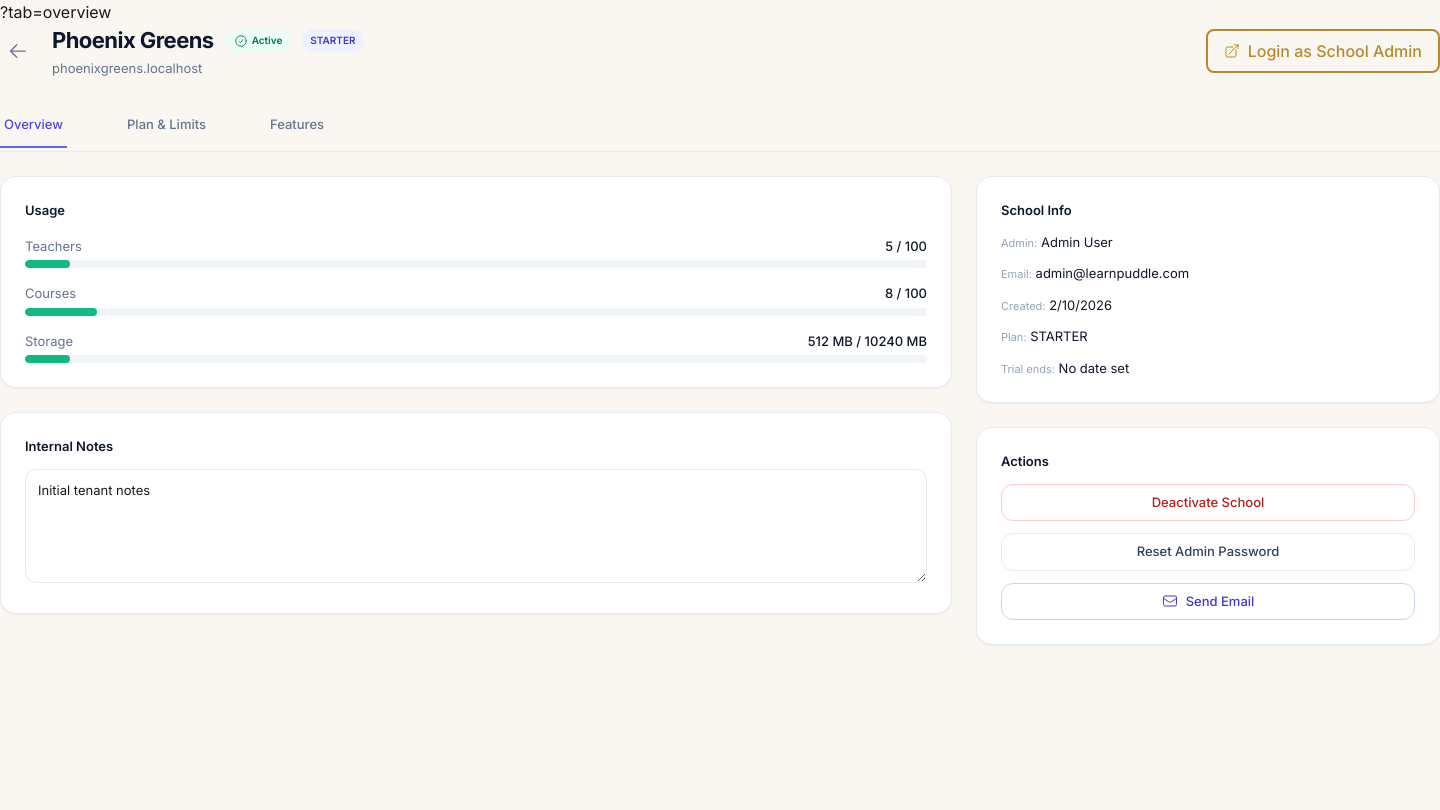
SchoolDetailPage tab URL stability › updates URL via tab clicks without bouncing back
Expected: the heading "Phoenix Greens" is shown, top-left (52, 24), bottom-right (214, 57)
Click the button "Plan & Limits": [166, 125] box top-left (123, 102), bottom-right (210, 148)
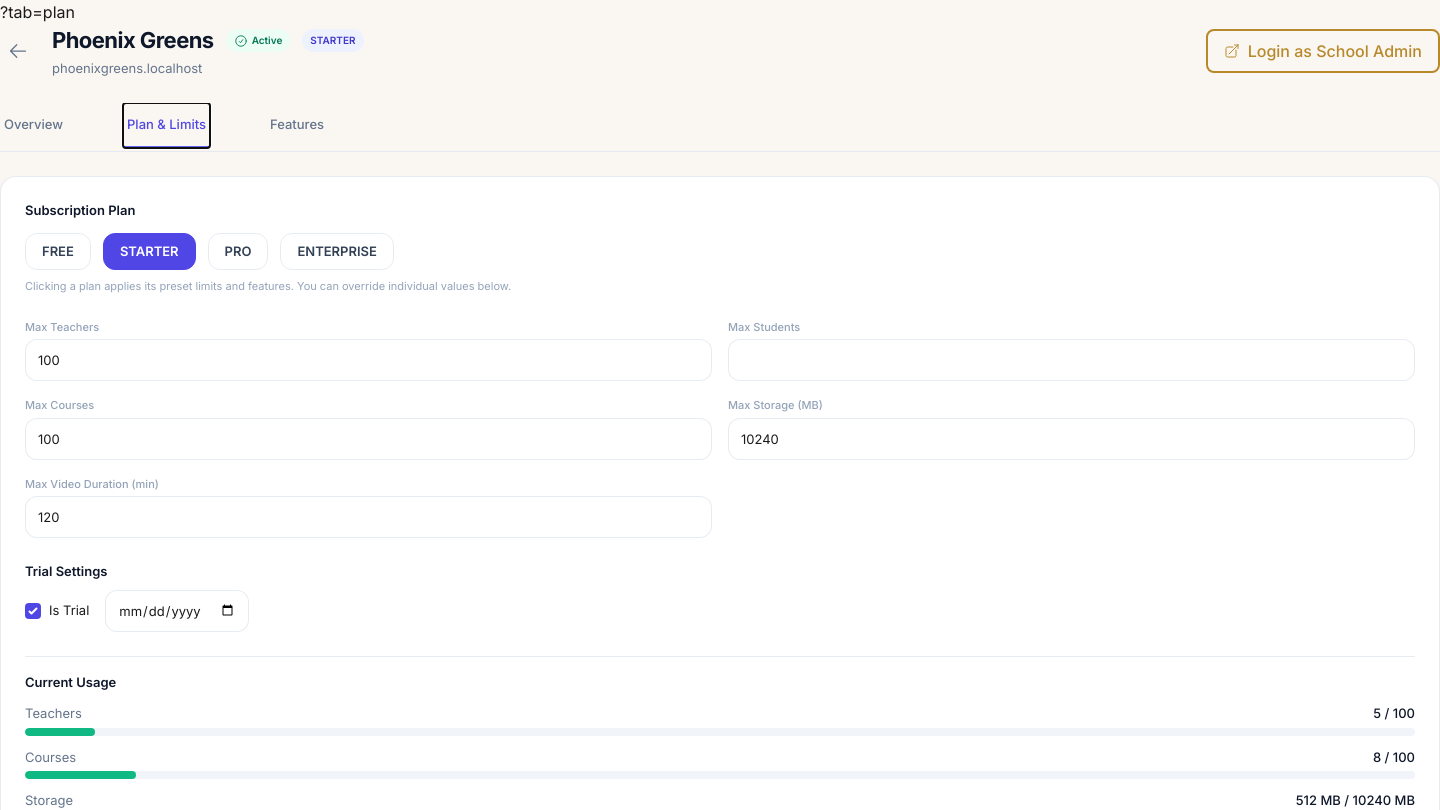
Now the heading "Subscription Plan" is shown, box top-left (25, 202), bottom-right (135, 218)
Now the text with test id "search" reads "?tab=plan", box top-left (0, 2), bottom-right (75, 22)
